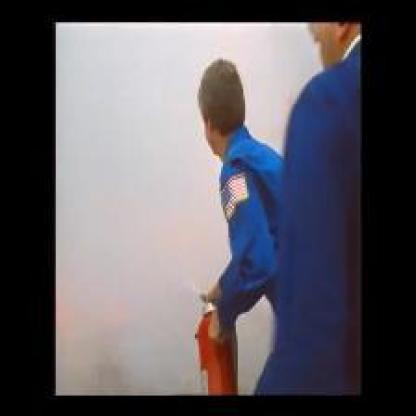other: (192, 284, 250, 394)
